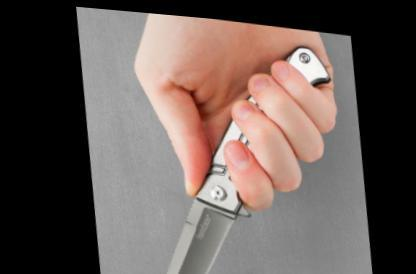knife: (100, 10, 358, 271)
